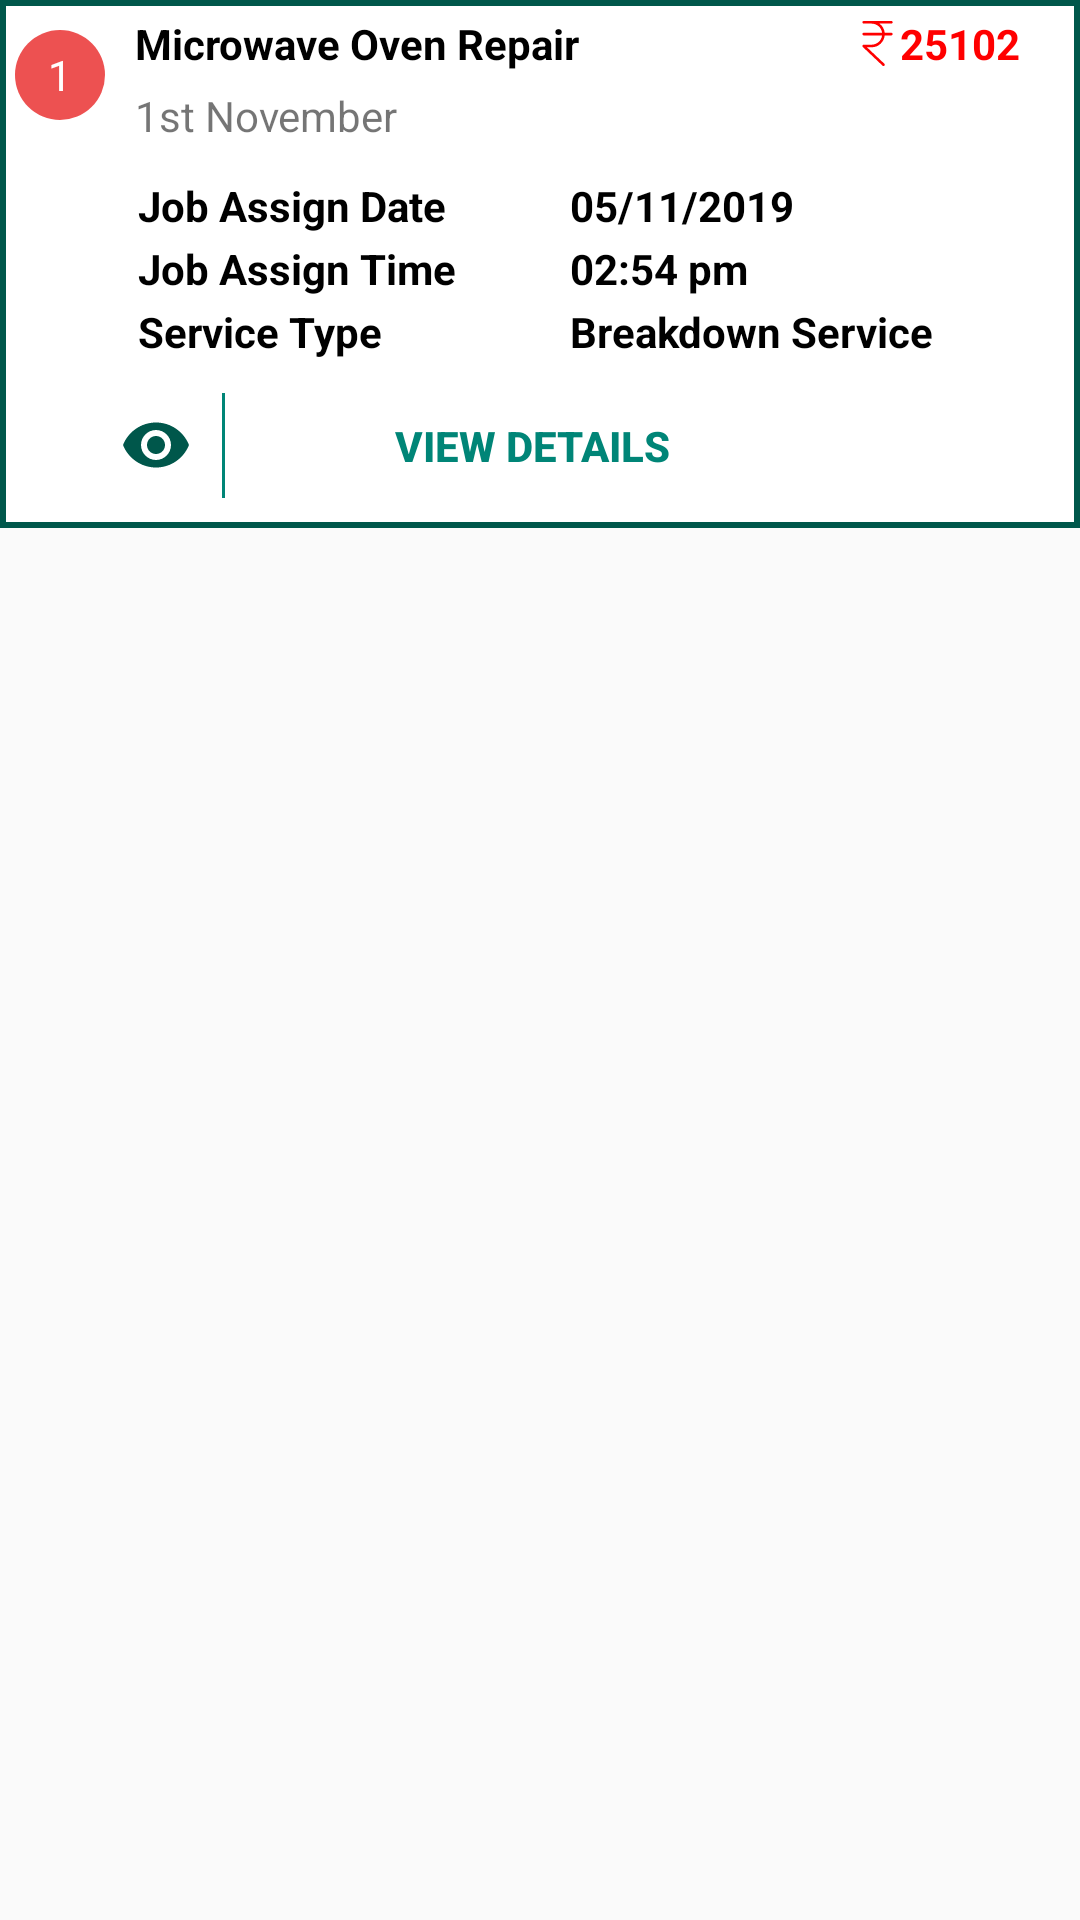

Icon bounding boxes for this 1080×1920 phone screenshot, format (x1, y1, x2, y2):
remove eye: (123, 422, 189, 468)
